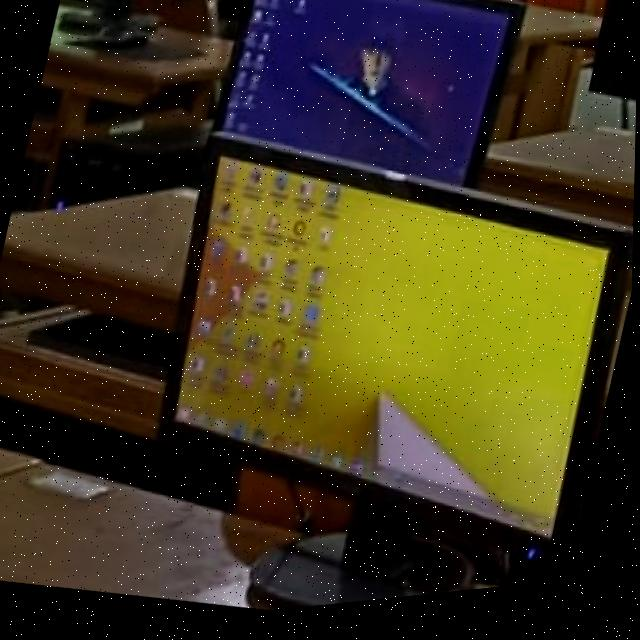onscreen: (167, 142, 634, 555), (217, 0, 522, 195)
